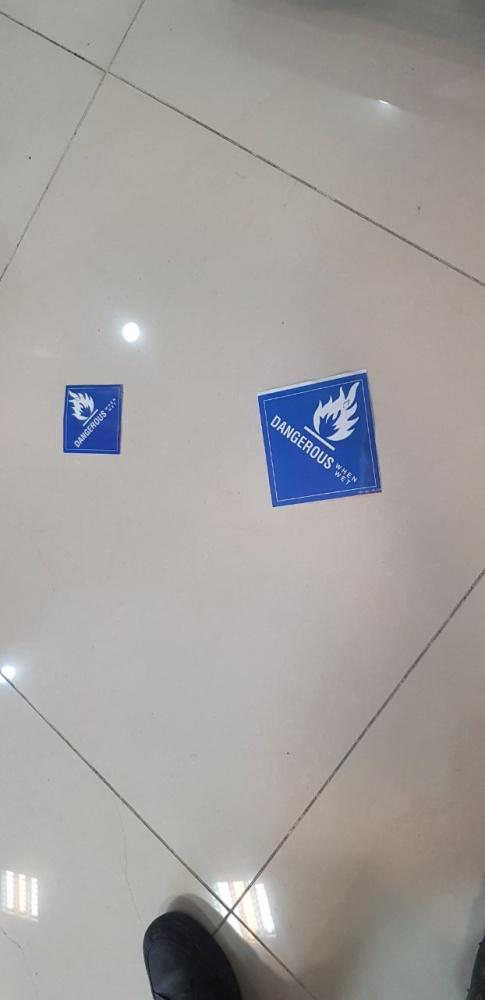dangerous-when-wet: (248, 370, 396, 509), (61, 381, 124, 455)
